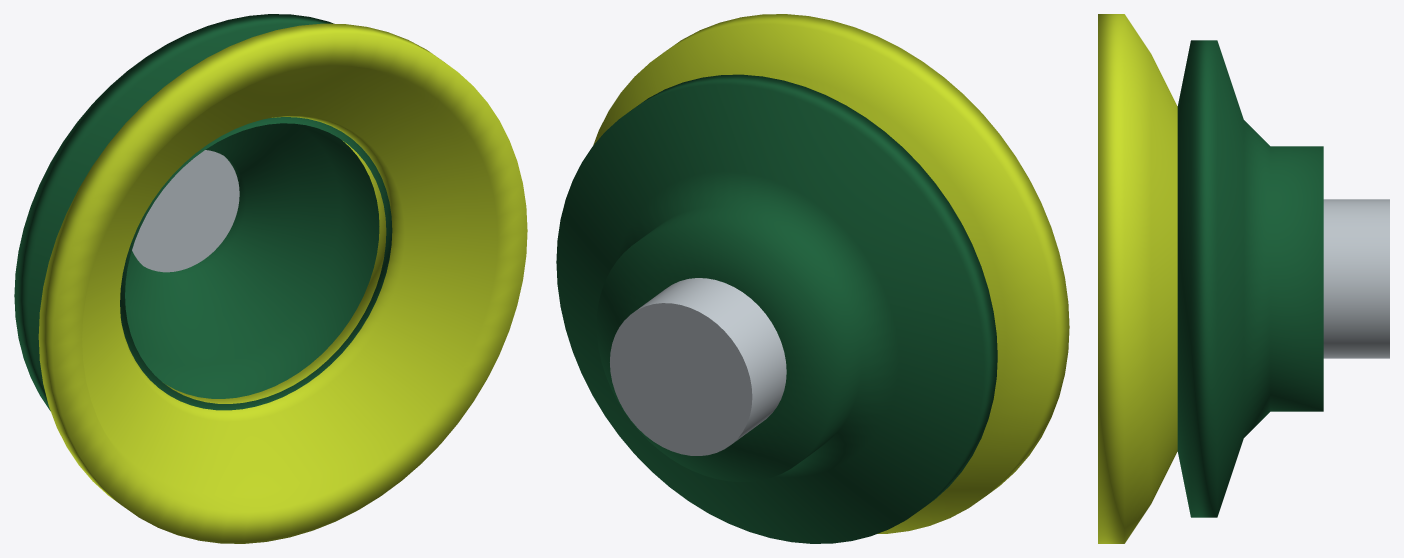
The model's file is cup_b.obj.
The picture shows the model from 3 angles, left to right: view 1: azimuth 30°, elevation 25°; view 2: azimuth 150°, elevation 25°; view 3: azimuth 270°, elevation 25°; orthographic projection. The views are drawn at different scales.
Visible parts, largest first — view 1: cup_compliant_yellow_lip, cup_upper_bellows, cup_thread_neck; view 2: cup_upper_bellows, cup_compliant_yellow_lip, cup_thread_neck; view 3: cup_upper_bellows, cup_compliant_yellow_lip, cup_thread_neck.
Boxes of the visible parts, left/top/right/bottom form: cup_compliant_yellow_lip: left=38, top=23, right=527, bottom=543; cup_upper_bellows: left=14, top=14, right=392, bottom=410; cup_thread_neck: left=132, top=150, right=239, bottom=272; cup_upper_bellows: left=556, top=74, right=997, bottom=543; cup_compliant_yellow_lip: left=593, top=14, right=1069, bottom=533; cup_thread_neck: left=610, top=278, right=786, bottom=455; cup_upper_bellows: left=1177, top=40, right=1323, bottom=517; cup_compliant_yellow_lip: left=1098, top=14, right=1177, bottom=543; cup_thread_neck: left=1323, top=199, right=1389, bottom=358.
Bounding box in the file's own units: 0.04 × 0.04 × 0.022.
